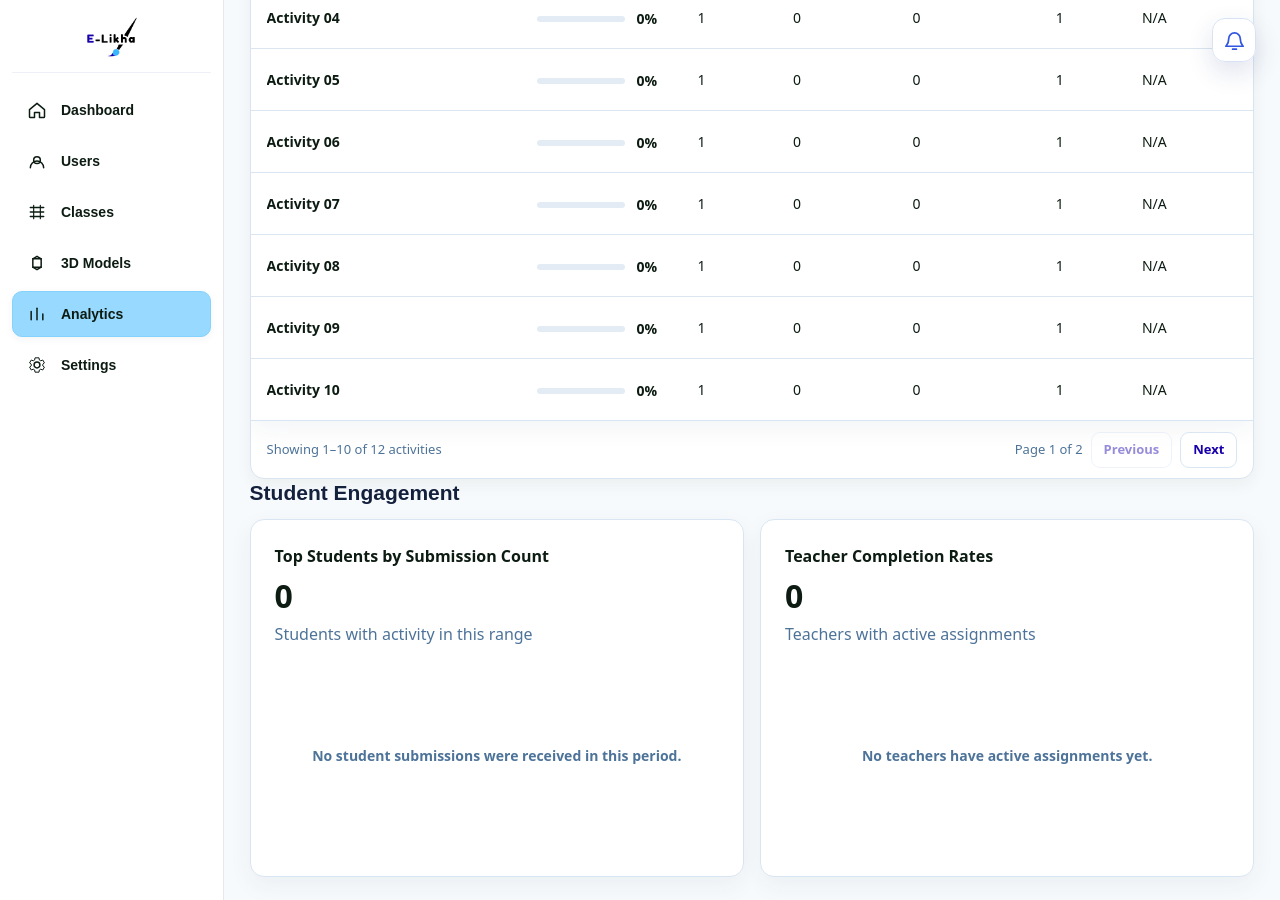
AdminReports activity pagination › shows 10 rows initially and moves through the remaining rows
(page scrolled)
What coordinates should you click on to do the following:
click the button "Next"
I would click on:
 (1209, 450)
Its box is [1180, 432, 1238, 468].
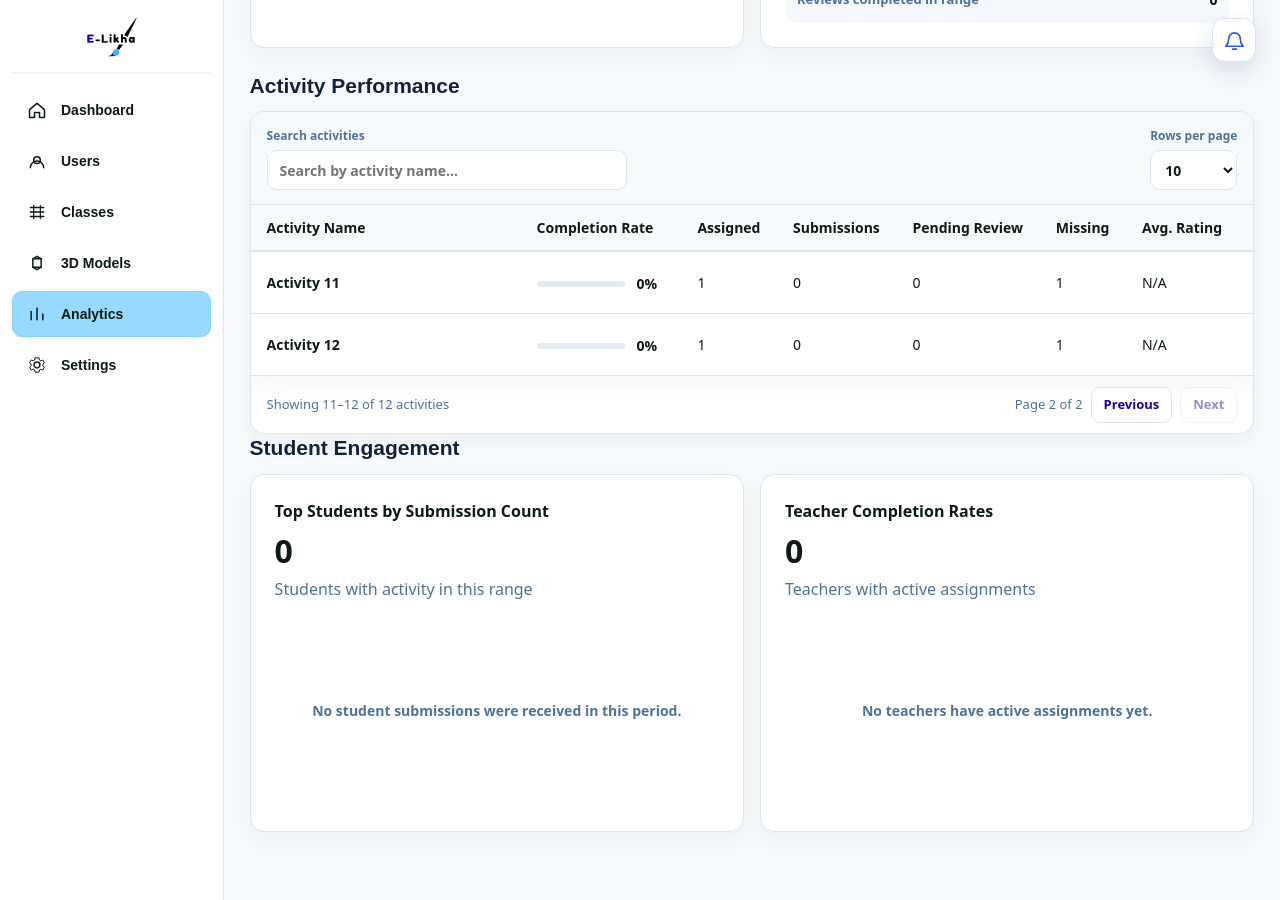
Expected: the text "Showing 11–12 of 12 activities" is shown, [267, 394, 449, 415]
Expected: the text "Activity 12" is shown, [267, 335, 340, 354]
